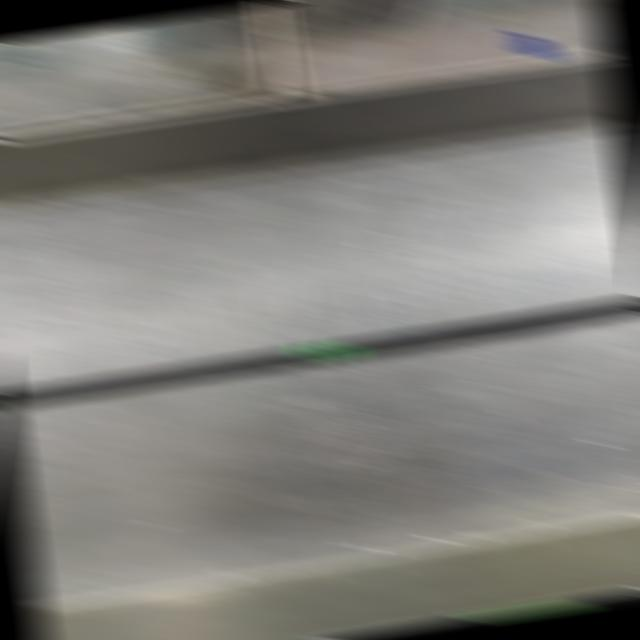green: (293, 340, 360, 365)
